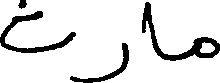ا: (143, 0, 160, 58)
ث: (0, 0, 75, 54)
ر: (73, 30, 130, 81)
م: (193, 34, 219, 58)
